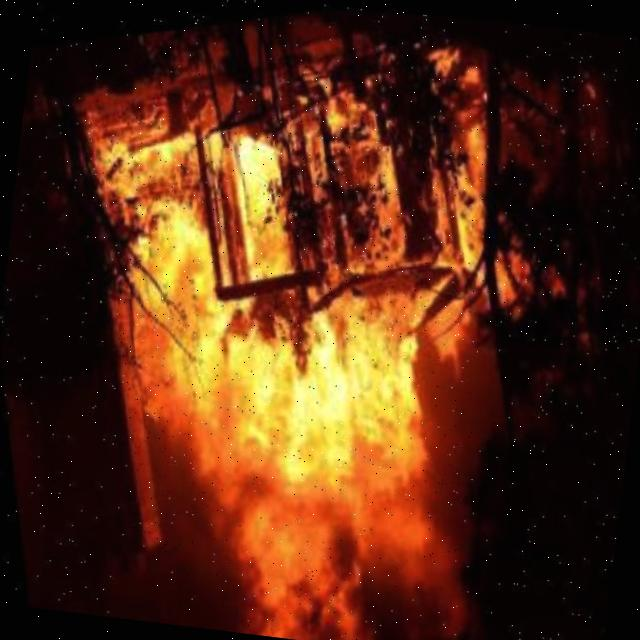fire: (40, 0, 609, 640)
